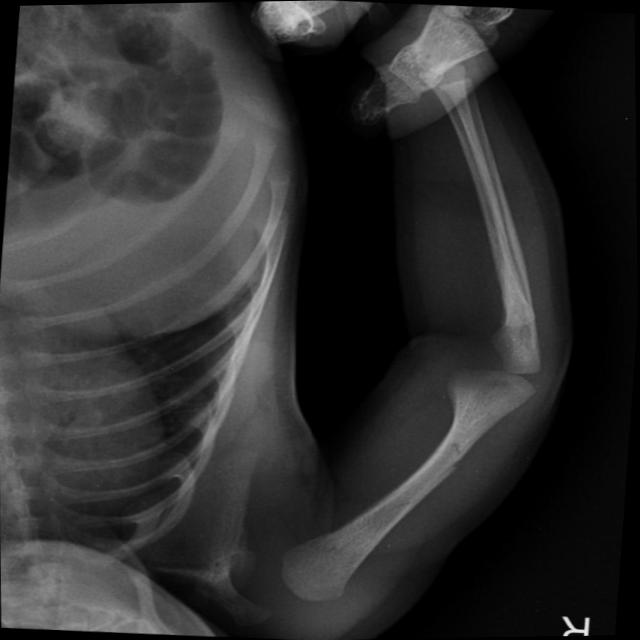Transverse Displaced: (395, 419, 479, 508)
